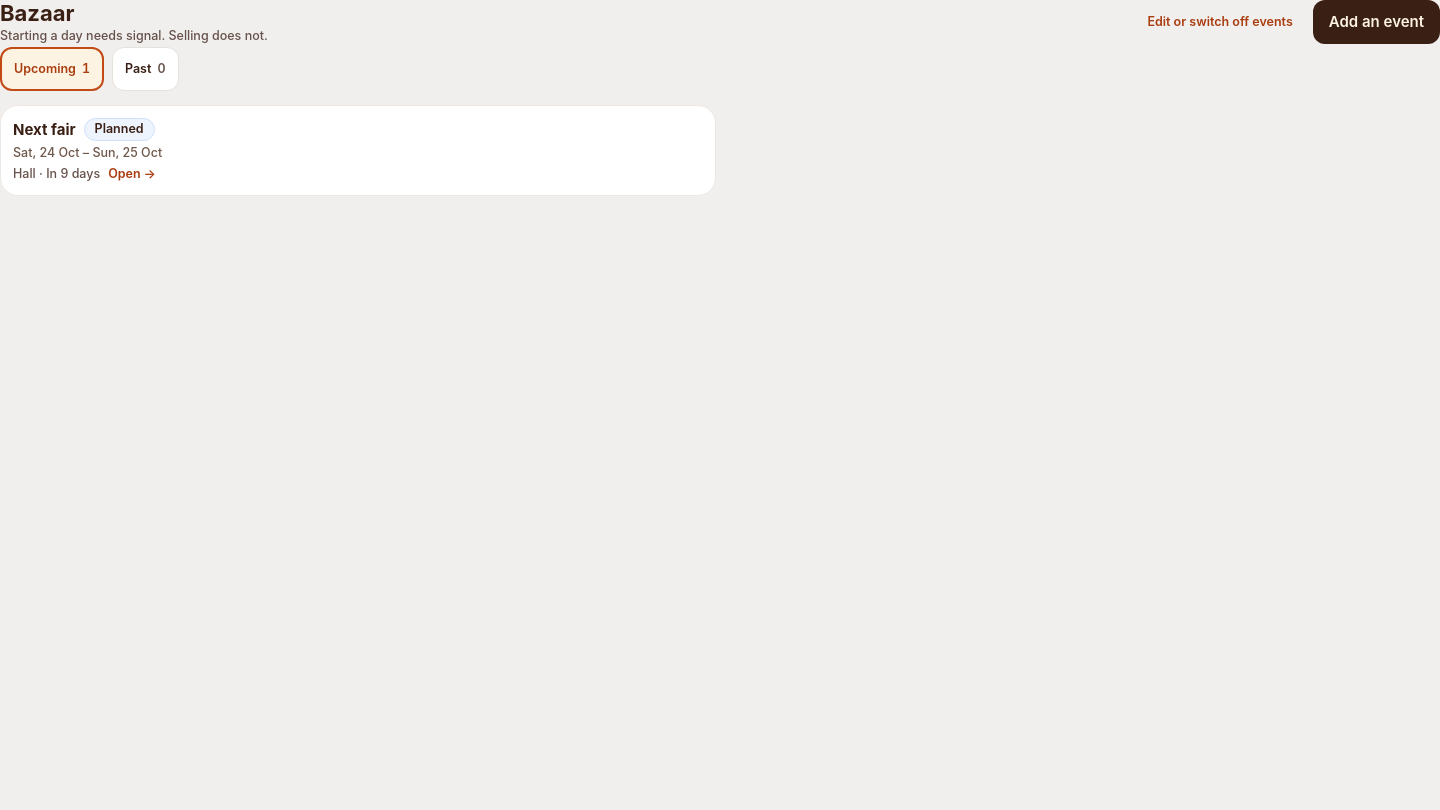
the add-event sheet › opens as a dialog with its fields, nothing pre-filled that is a decision
Click the button "Add an event" at (1376, 22), box x1=1313 y1=0 x2=1439 y2=44
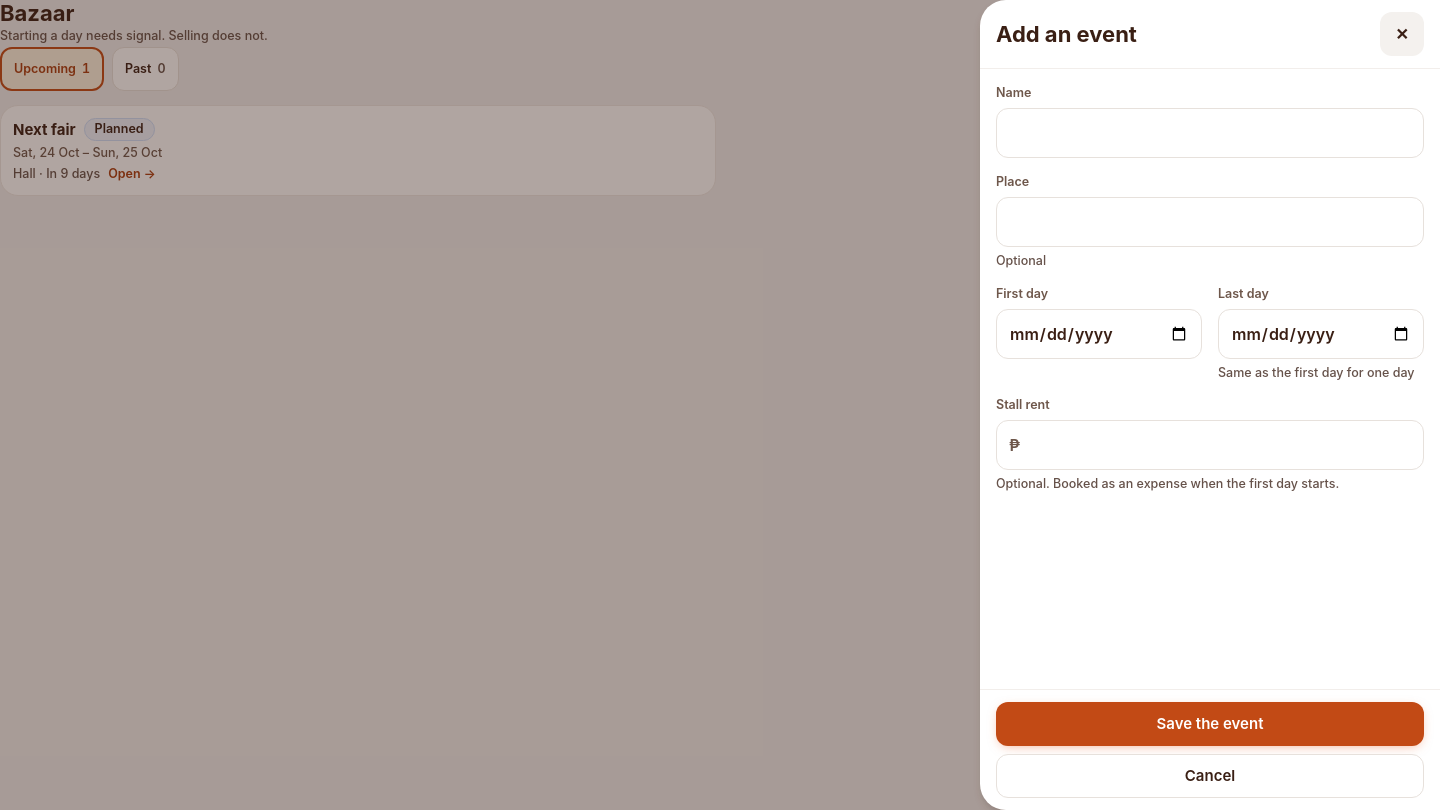
Result: the date field labelled "First day" is empty at x1=997 y1=310 x2=1201 y2=358
Result: the date field labelled "Last day" is empty at x1=1219 y1=310 x2=1423 y2=358
Result: the button "Save the event" is shown at x1=996 y1=702 x2=1424 y2=746
